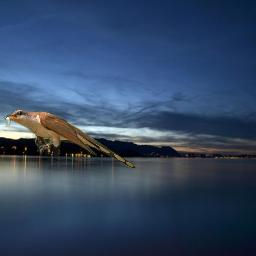Cuckoo: (2, 109, 136, 169)
